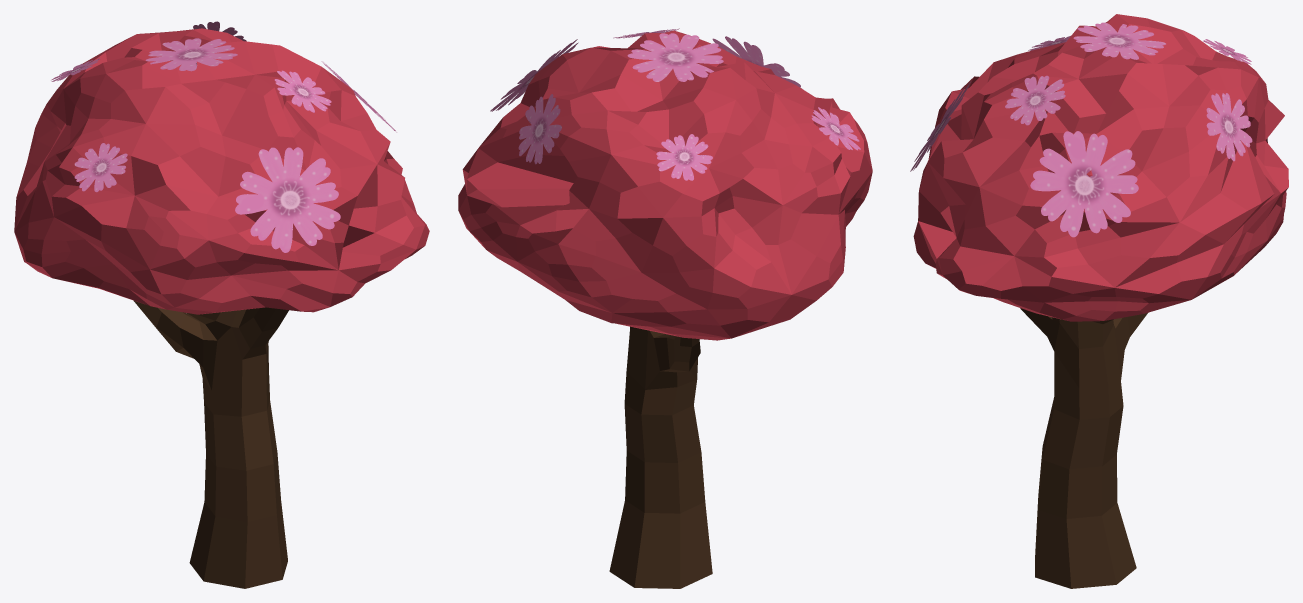
The model's file is tree2GGJ.fbx.
The picture shows the model from 3 angles, left to right: view 1: azimuth 30°, elevation 25°; view 2: azimuth 150°, elevation 25°; view 3: azimuth 270°, elevation 25°; orthographic projection. The views are drawn at different scales.
Parts seen in each view (by area): view 1: Icosphere.007, Cylinder.001, Plane.006, Plane.002, Plane.001, Plane; view 2: Icosphere.007, Cylinder.001, Plane.002, Plane.005, Plane.003, Plane.006, Plane.001, Plane.004; view 3: Icosphere.007, Cylinder.001, Plane.004, Plane.002, Plane.005, Plane, Plane.006.
Part boxes in pixels (x1,y1,x2,y2): Icosphere.007: (14,28,429,314); Cylinder.001: (133,300,288,588); Plane.006: (235,147,340,252); Plane.002: (145,38,237,71); Plane.001: (74,143,127,192); Plane: (274,70,331,112); Icosphere.007: (458,30,872,340); Cylinder.001: (609,326,712,588); Plane.002: (627,33,723,81); Plane.005: (518,94,561,164); Plane.003: (656,134,712,180); Plane.006: (712,36,801,88); Plane.001: (811,107,860,150); Plane.004: (490,39,578,111); Icosphere.007: (913,14,1288,321); Cylinder.001: (1020,308,1147,588); Plane.004: (1030,131,1138,237); Plane.002: (1073,22,1165,59); Plane.005: (1206,93,1252,161); Plane: (1005,75,1065,125); Plane.006: (910,81,971,171).
Bounding box in the file's own units: 489 × 681 × 462.
